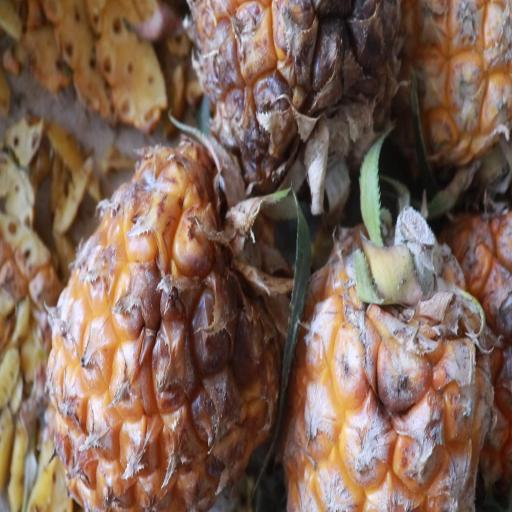Pineapple - v8 v1: (49, 120, 292, 512), (290, 189, 512, 512)
